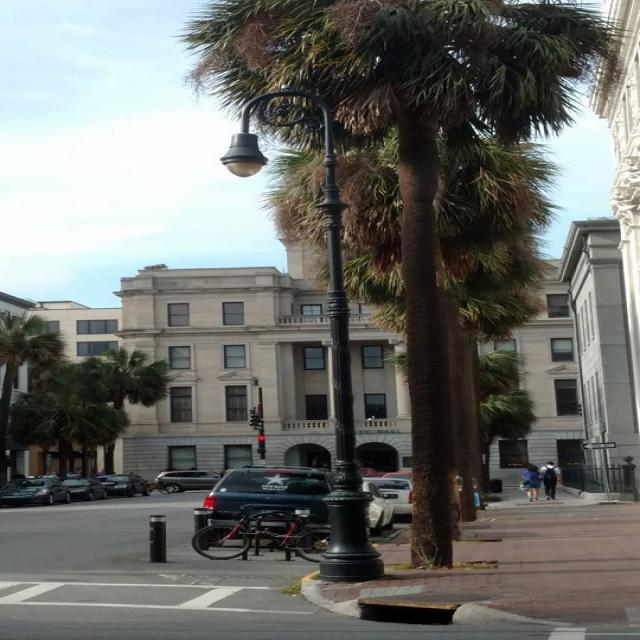Electric pole: (222, 85, 384, 583)
